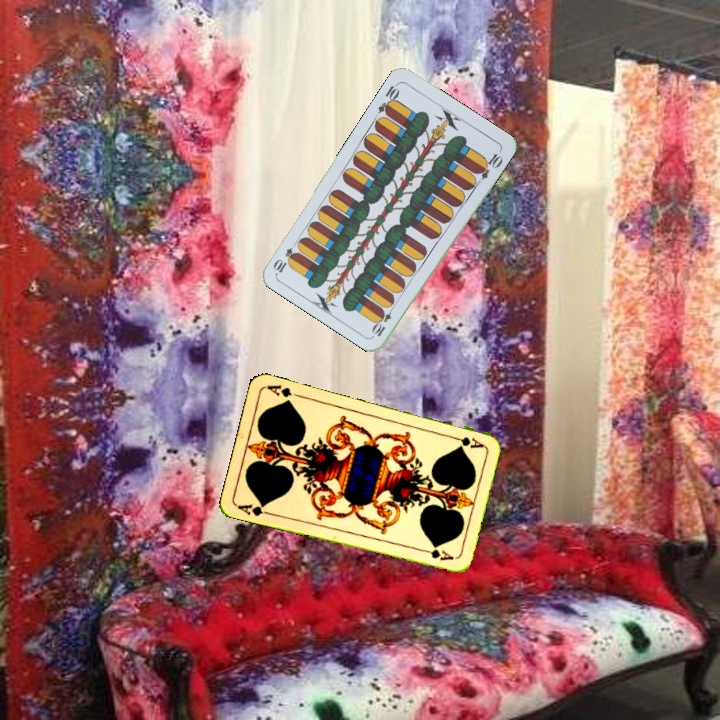E10: (374, 79, 402, 118), (369, 301, 397, 339)
GA: (233, 500, 274, 519), (446, 431, 486, 450)
